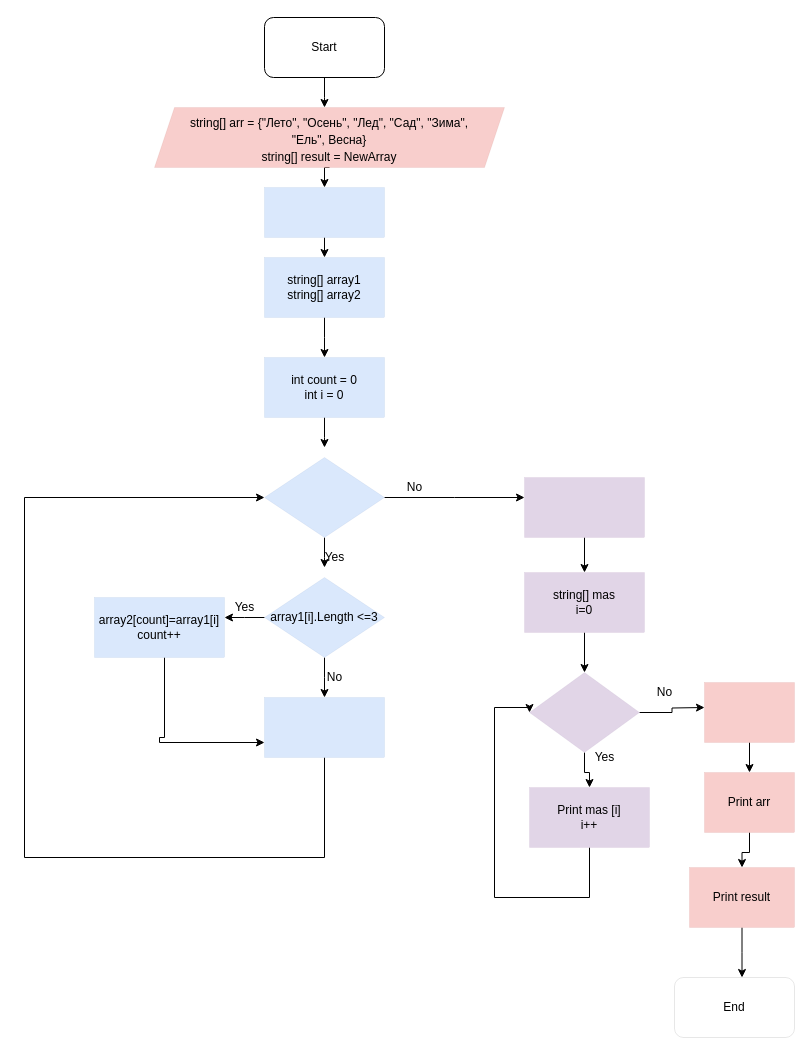
This 812x1055 diagram has some shape labels left out. The shapes that lost their labels are listed below. From the top down, each one's centre as x and y in pixels, then its label:
At [324,212]: "void NewArray".
At [324,497]: "i< array1.Length".
At [584,507]: "void Print".
At [324,727]: "i++".
At [584,712]: "i< mas.Length".
At [749,712]: "NewArray{arr, result}".
